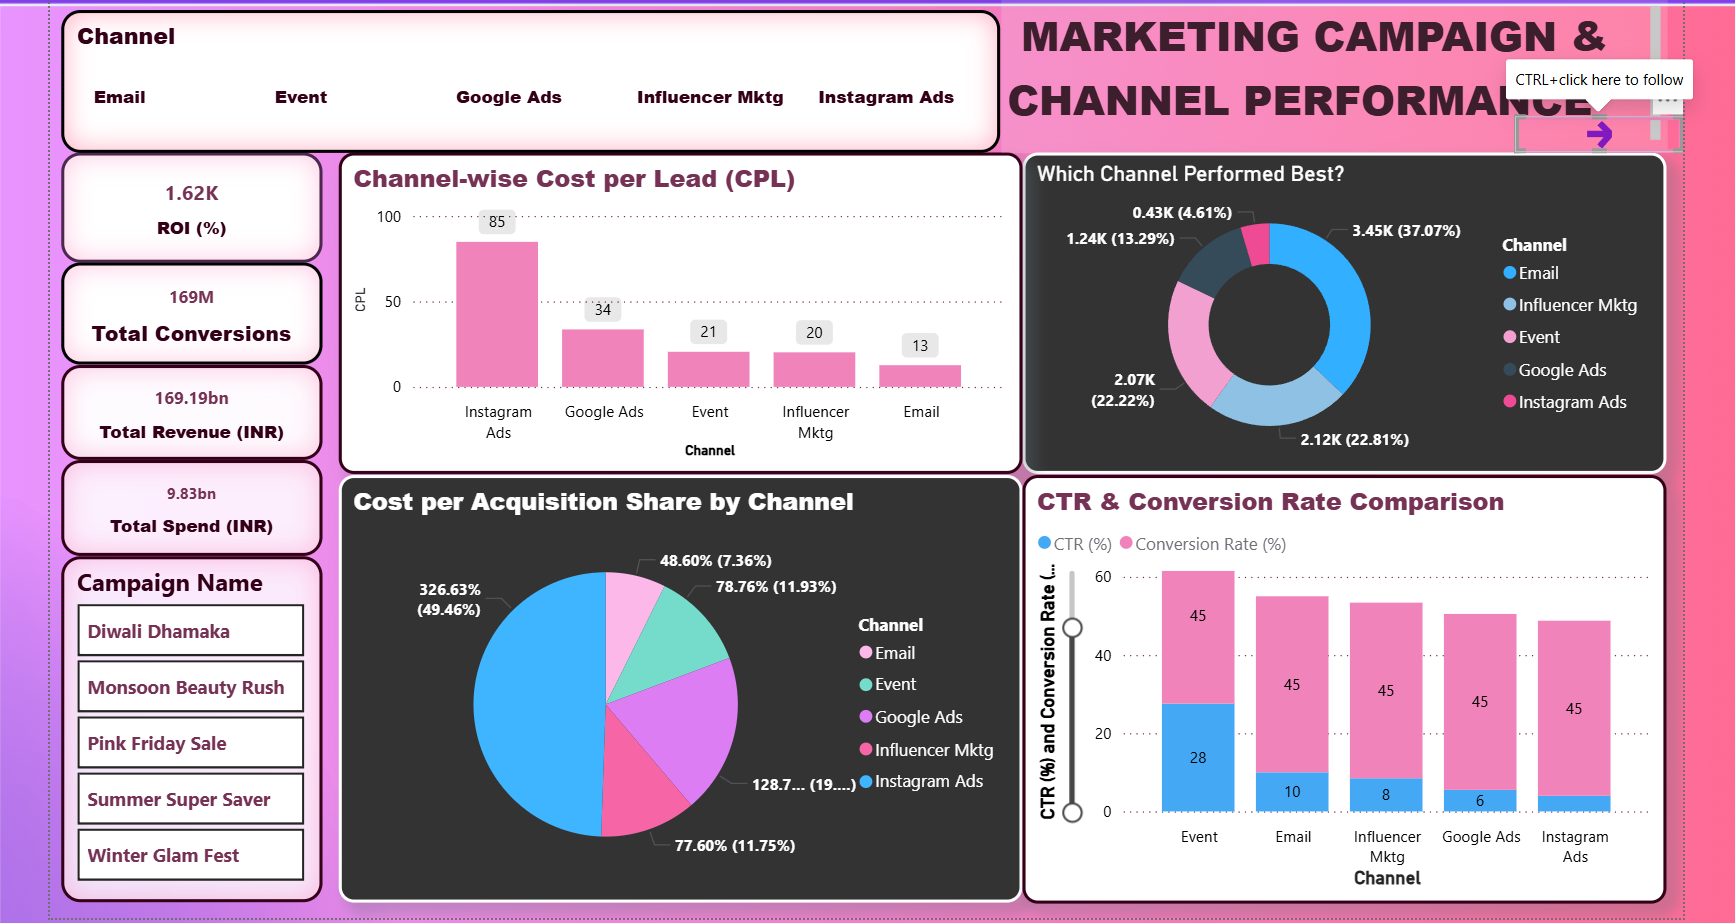

This screenshot's page, from the dashboard's own definition file:
{"tool":"powerbi","page":{"name":"Page 2","canvas":[1280,720],"ordinal":1},"visuals":[{"type":"card","fields":{"Values":["Sheet1.ROI (%)"]},"box":[9.3,119.8,204.7,86],"z":0},{"type":"card","fields":{"Values":["Sheet1.Total Spend (INR)"]},"box":[9.3,360.5,204.7,75.6],"z":1000},{"type":"card","fields":{"Values":["Sheet1.Total Revenue (INR)"]},"box":[9.3,286,204.7,74.4],"z":2000},{"type":"card","fields":{"Values":["Sheet1.Total Conversions"]},"box":[9.3,205.8,204.7,80.2],"z":3000},{"type":"donutChart","title":" Which Channel Performed Best?","fields":{"Y":["Sheet1.ROI (%)"],"Category":["Sheet1.Channel"]},"box":[762.8,119.8,504.7,252.3],"z":4000},{"type":"clusteredColumnChart","title":"Channel-wise Cost per Lead (CPL)","fields":{"Y":["Sheet1.CPL"],"Category":["Sheet1.Channel"]},"box":[226.7,119.8,536,252.3],"z":5000},{"type":"pieChart","title":"Cost per Acquisition Share by Channel","fields":{"Y":["Divide(Sheet1.CPA, ScopedEval(Sheet1.CPA, []))"],"Series":["Sheet1.Channel"]},"box":[226.7,372.1,536,334.9],"z":6000},{"type":"lineStackedColumnComboChart","title":" CTR & Conversion Rate Comparison","fields":{"Category":["Sheet1.Channel"],"Y":["Sheet1.CTR (%)","Sheet1.Conversion Rate (%)"]},"box":[762.8,372.1,504.7,336],"z":7000},{"type":"advancedSlicerVisual","fields":{"Values":["Sheet1.Campaign Name"]},"box":[9.3,436,204.7,270.9],"z":8000},{"type":"advancedSlicerVisual","fields":{"Values":["Sheet1.Channel"]},"box":[9.3,8.1,736,111.6],"z":9000},{"type":"textbox","box":[745.4,0,522.1,119.8],"z":10000},{"type":"actionButton","box":[1148.8,90.7,131.4,29.1],"z":11000}]}

Visuals, with their boxes in screenshot pixels (x1, y1, x2, y2):
card - Sheet1.ROI (%): (x1=66, y1=151, x2=324, y2=260)
card - Sheet1.Total Spend (INR): (x1=66, y1=455, x2=324, y2=551)
card - Sheet1.Total Revenue (INR): (x1=66, y1=361, x2=324, y2=455)
card - Sheet1.Total Conversions: (x1=66, y1=260, x2=324, y2=361)
" Which Channel Performed Best?" donutChart: (x1=1017, y1=151, x2=1654, y2=470)
"Channel-wise Cost per Lead (CPL)" clusteredColumnChart: (x1=340, y1=151, x2=1017, y2=470)
"Cost per Acquisition Share by Channel" pieChart: (x1=340, y1=470, x2=1017, y2=893)
" CTR & Conversion Rate Comparison" lineStackedColumnComboChart: (x1=1017, y1=470, x2=1654, y2=894)
advancedSlicerVisual - Sheet1.Campaign Name: (x1=66, y1=550, x2=324, y2=892)
advancedSlicerVisual - Sheet1.Channel: (x1=66, y1=10, x2=995, y2=151)
textbox: (x1=995, y1=0, x2=1654, y2=151)
actionButton: (x1=1505, y1=115, x2=1670, y2=151)
